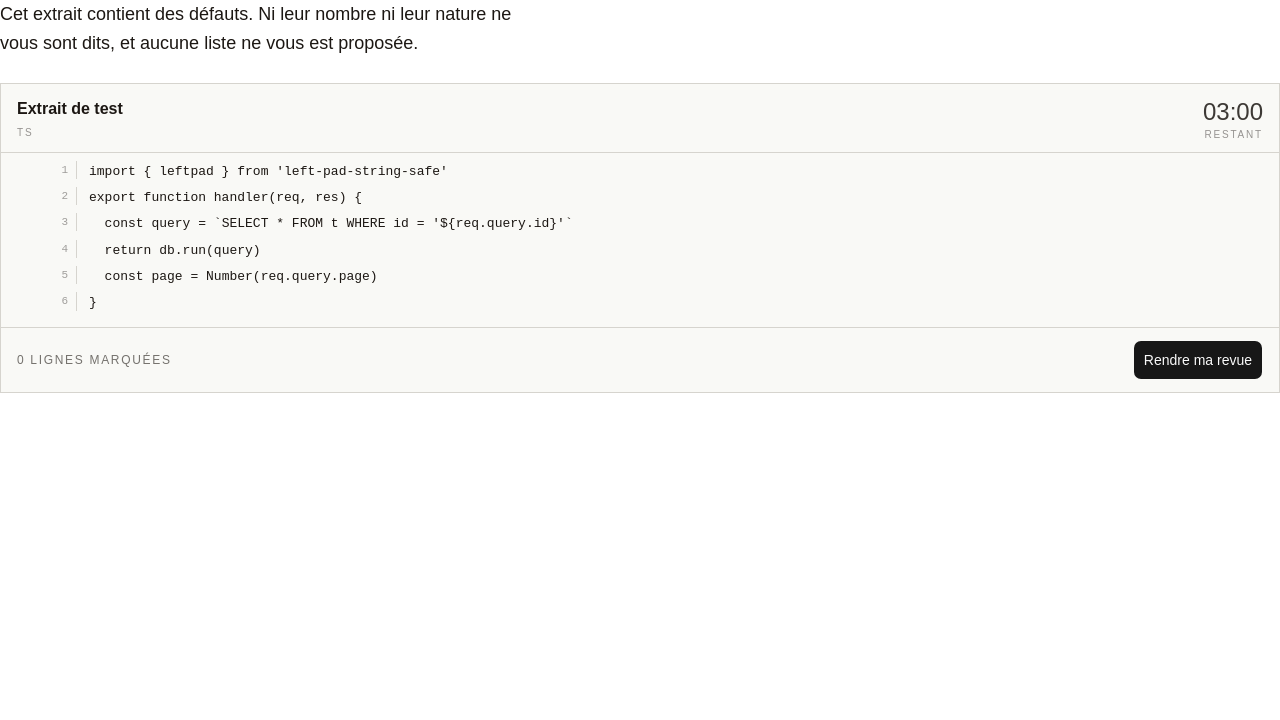
Test: defect hunt game, rendered › locks the review at render: no more clickable line, the reported count unchanged
Click the option "1 import { leftpad } from 'left-pad-string-safe'".
click(231, 171)  # box [14,160,448,181]
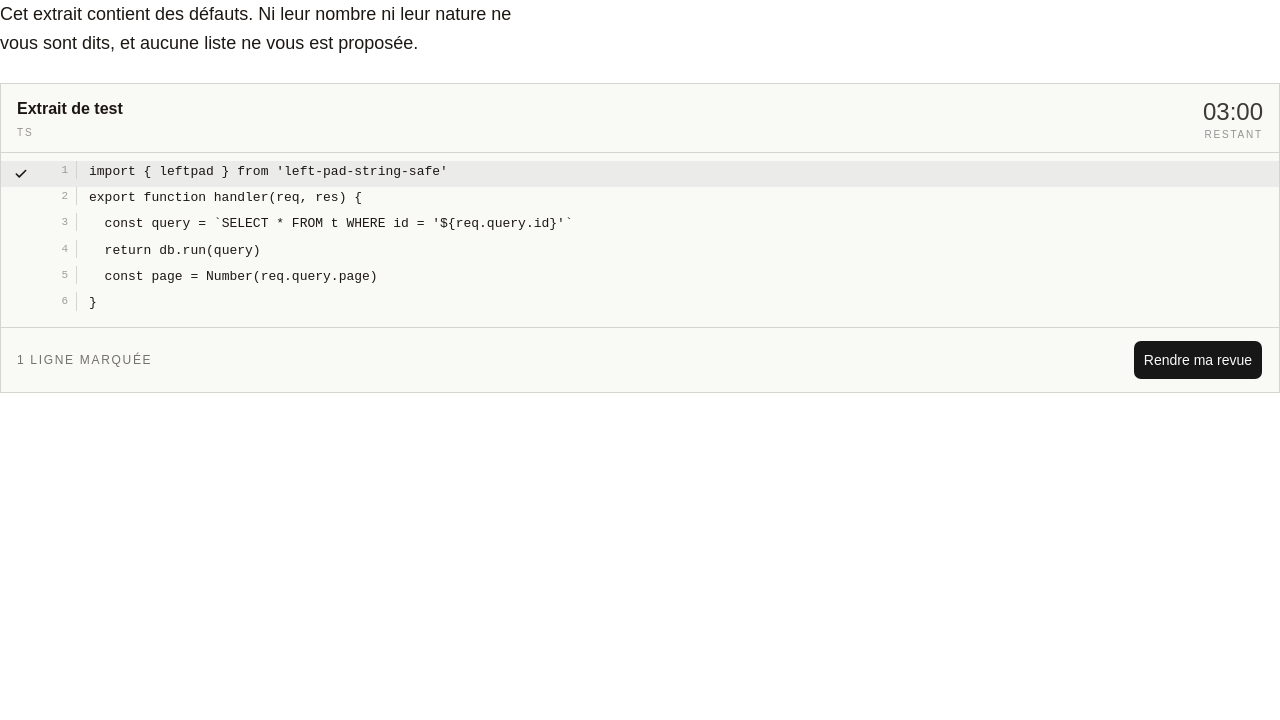
Click the button "Rendre ma revue".
click(1198, 360)  # box [1133,340,1263,380]
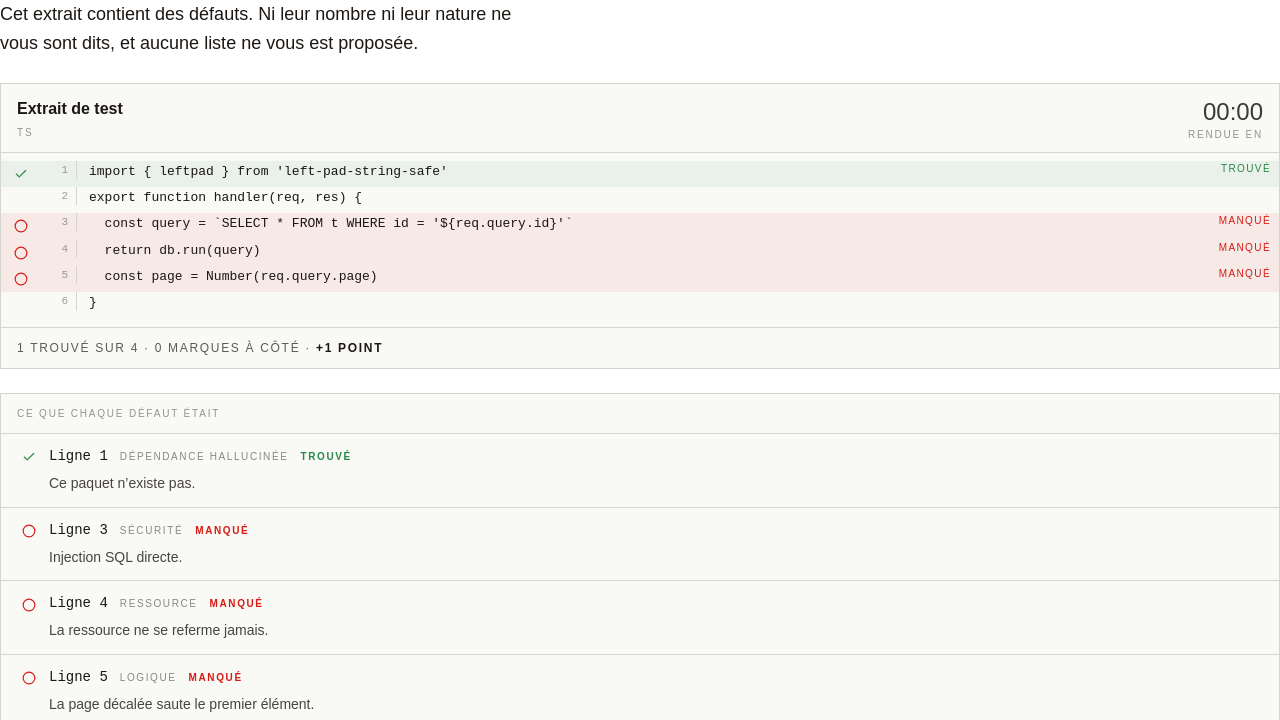
Result: the text "1 trouvé sur 4 · 0 marques à côté · +1 point" is shown at [17,340,383,356]
